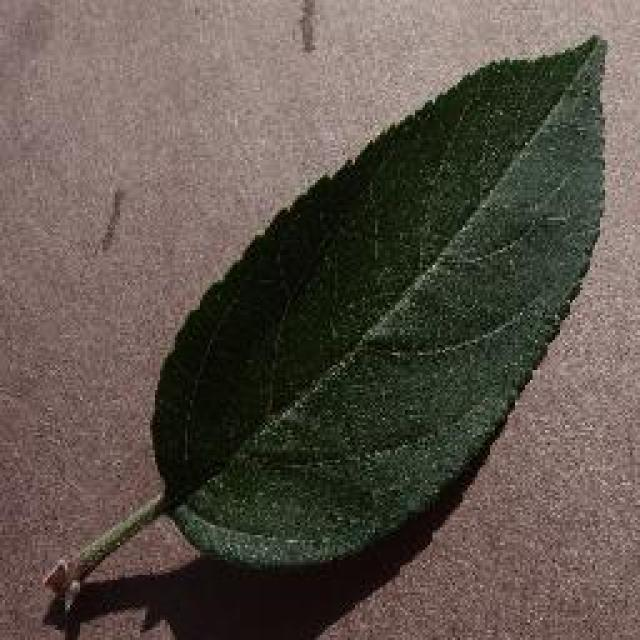apple healthy: (40, 30, 610, 615)
